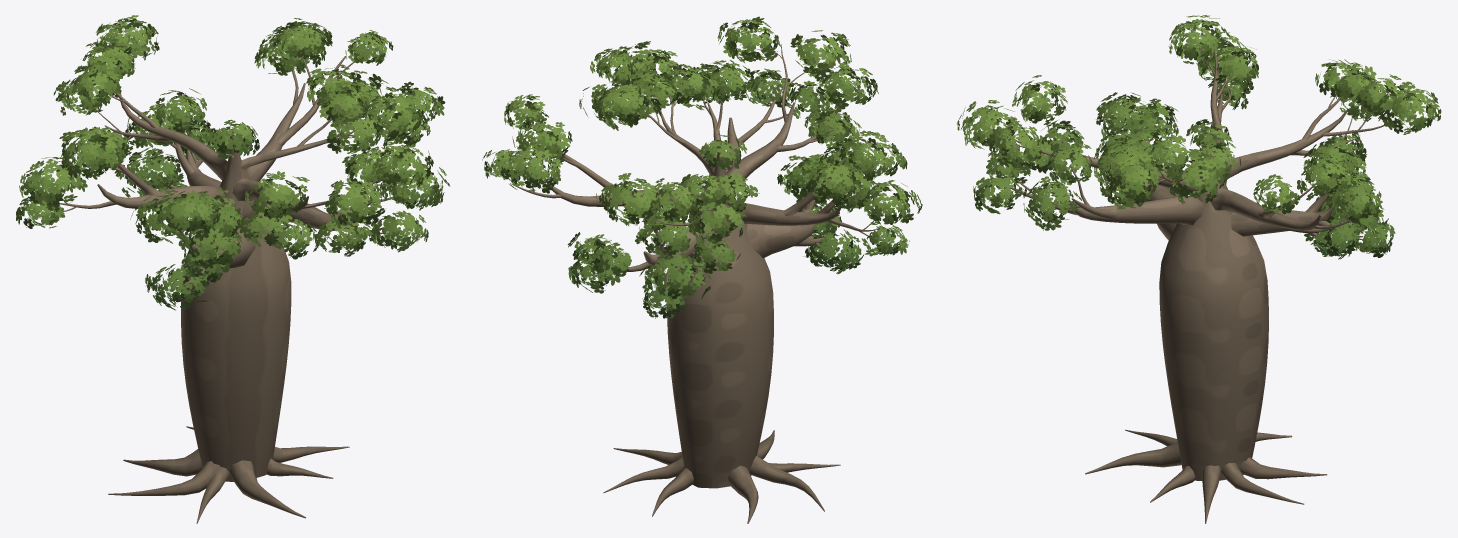
The model's file is tree.gltf.
The picture shows the model from 3 angles, left to right: view 1: azimuth 30°, elevation 25°; view 2: azimuth 150°, elevation 25°; view 3: azimuth 270°, elevation 25°; orthographic projection. The views are drawn at different scales.
Visible parts, largest first — view 1: Tree_LOD0; view 2: Tree_LOD0; view 3: Tree_LOD0.
Boxes of the visible parts, x1,y1,x2,y2 form: Tree_LOD0: (16, 15, 450, 523); Tree_LOD0: (482, 16, 922, 523); Tree_LOD0: (957, 15, 1441, 523).
Bounding box in the file's own units: 25.15 × 23.31 × 26.97.
Materials: 2 (2 with a texture image).
